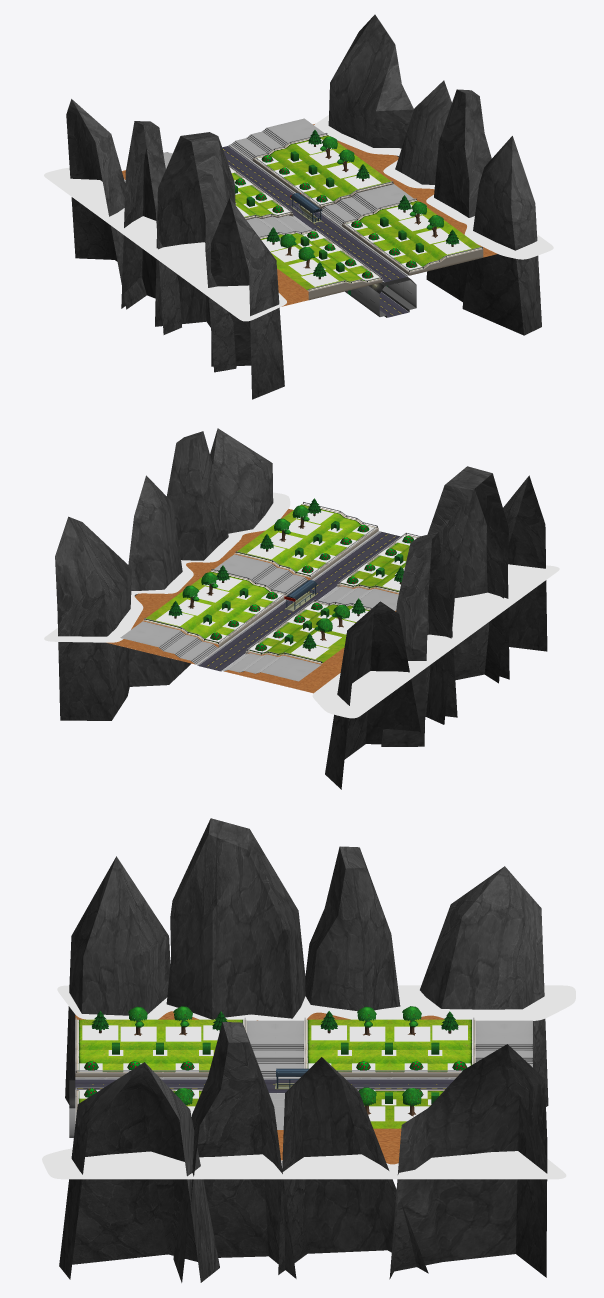
The model's file is Mexico_07.fbx.
3 views of the same model, one above another, from view 1: azimuth 30°, elevation 25°; view 2: azimuth 150°, elevation 25°; view 3: azimuth 270°, elevation 25° (orthographic). The views are drawn at different scales.
Visible parts, largest first — view 1: Mexico_07; view 2: Mexico_07; view 3: Mexico_07.
Boxes of the visible parts, bbox=[...] form: Mexico_07: bbox=[44, 14, 553, 399]; Mexico_07: bbox=[44, 428, 559, 789]; Mexico_07: bbox=[42, 818, 575, 1282].
Size of the model in its own units: 22617 by 13384 by 25170.
Materials: 10 (10 with a texture image).
